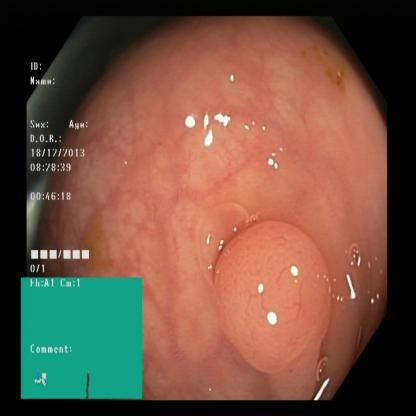Labels: (28, 58, 101, 281), (22, 276, 142, 402)
Polyps: (211, 222, 332, 362)
